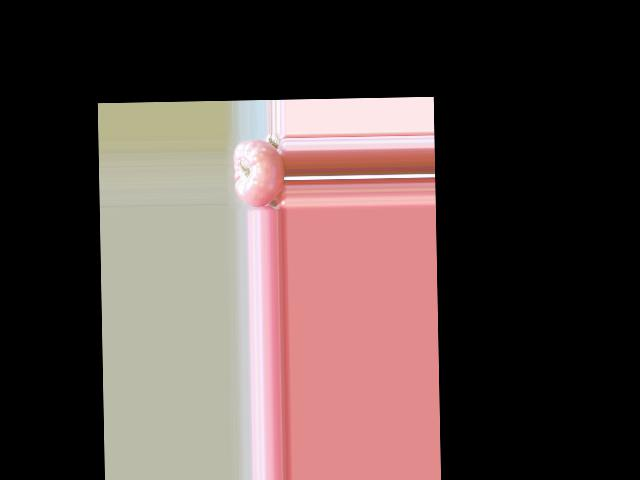tomato: (233, 139, 285, 208)
